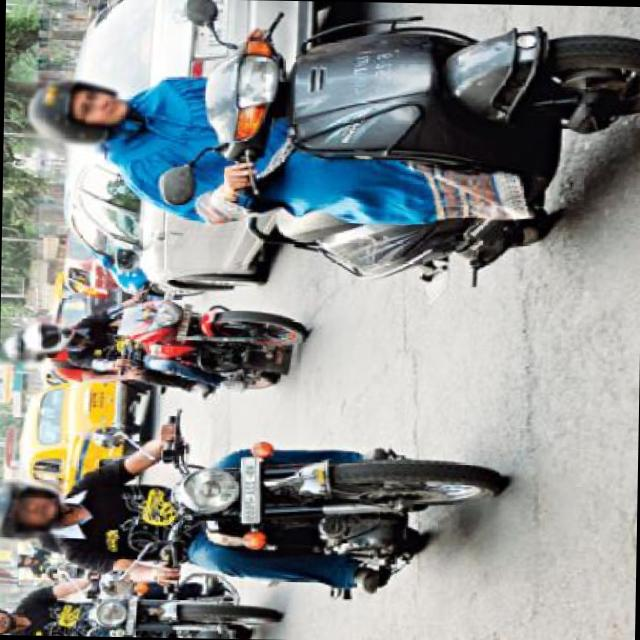With Helmet: (23, 70, 134, 156), (0, 477, 66, 544), (19, 316, 74, 354), (0, 327, 50, 366)
